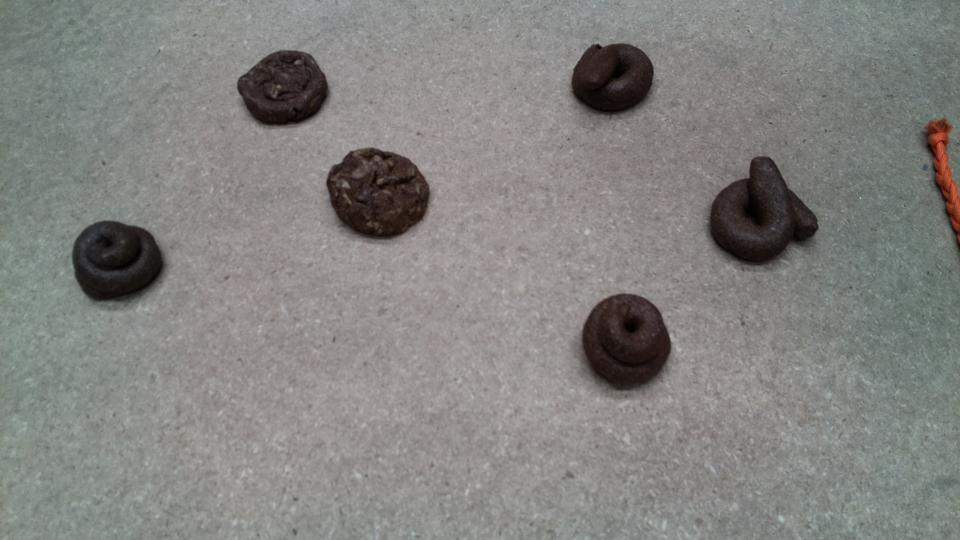poop: (705, 152, 825, 269), (323, 143, 437, 247), (578, 289, 678, 394), (68, 216, 168, 302), (235, 47, 335, 131), (568, 39, 659, 118)
rope: (922, 113, 960, 226)
